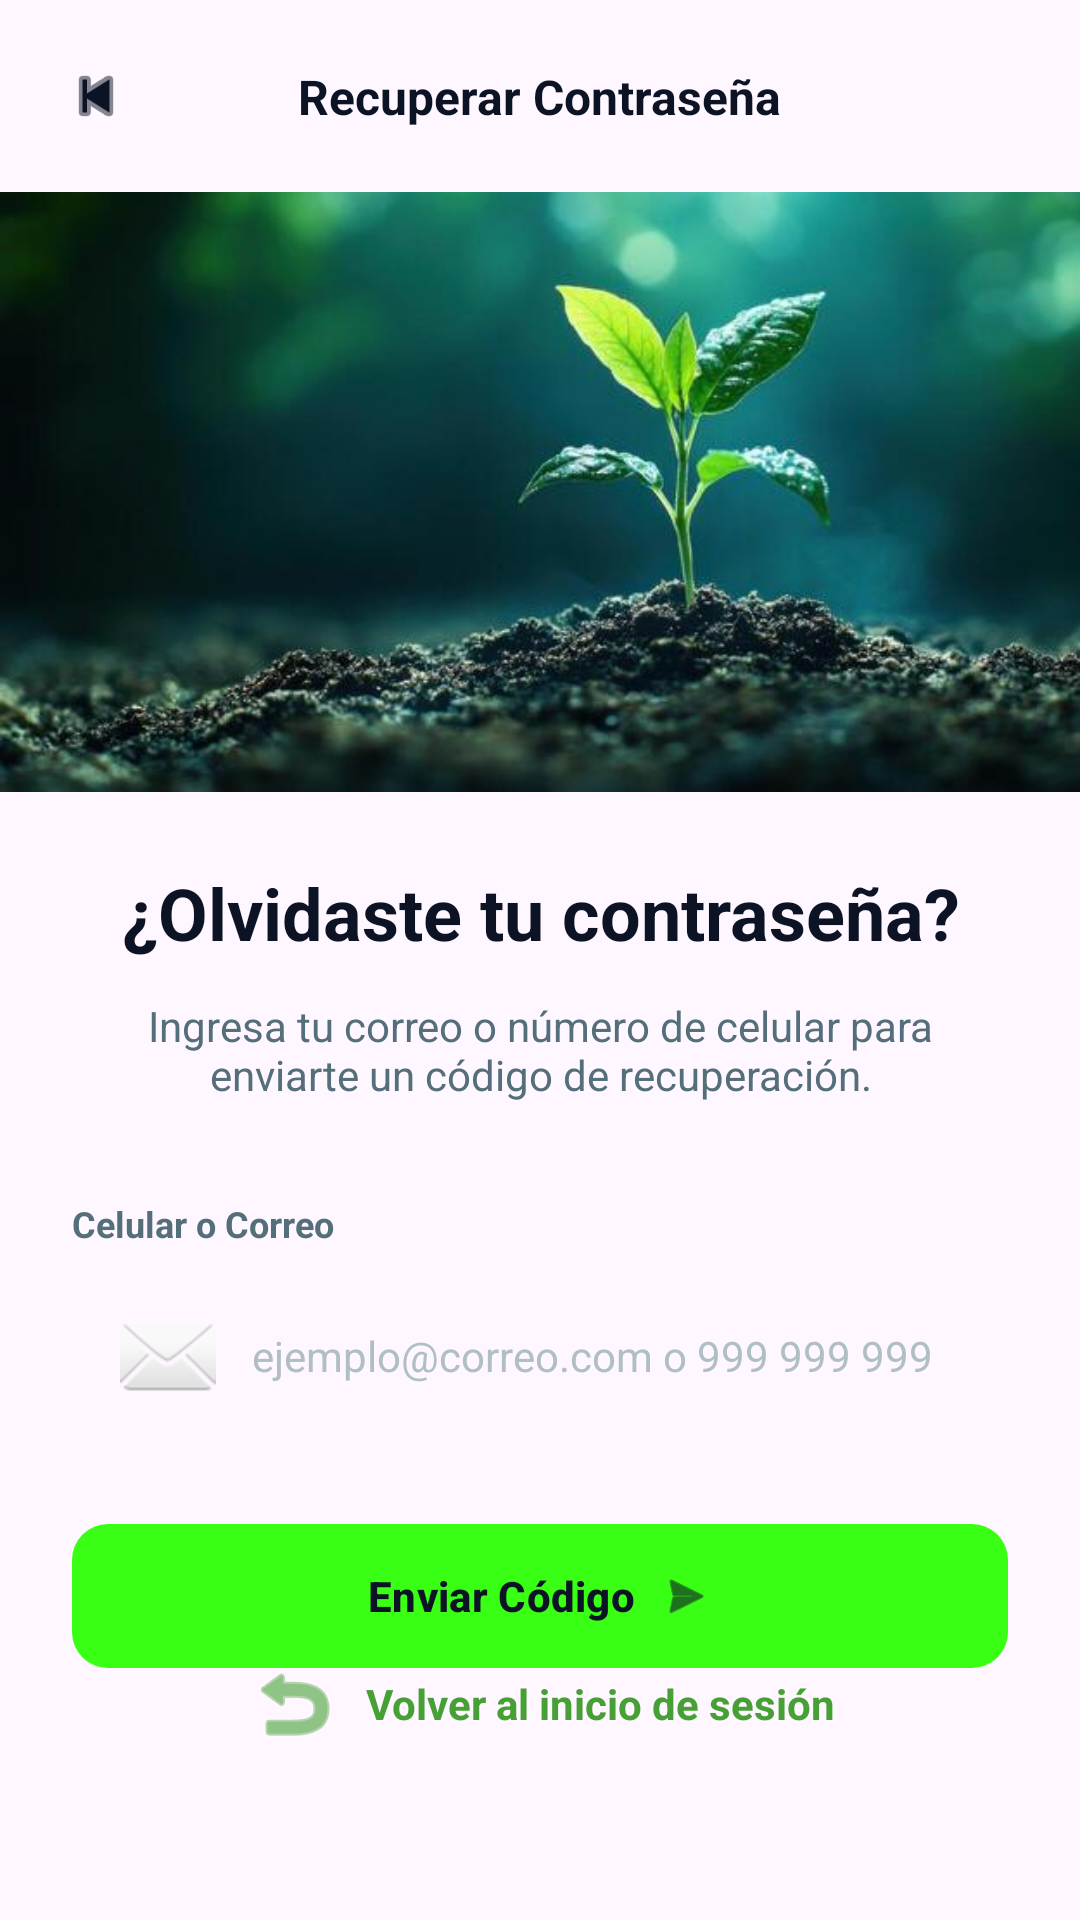

Icons on this 1080w x 1920h Android screen, each with the point to tap as (x,y):
previous: (96,96)
